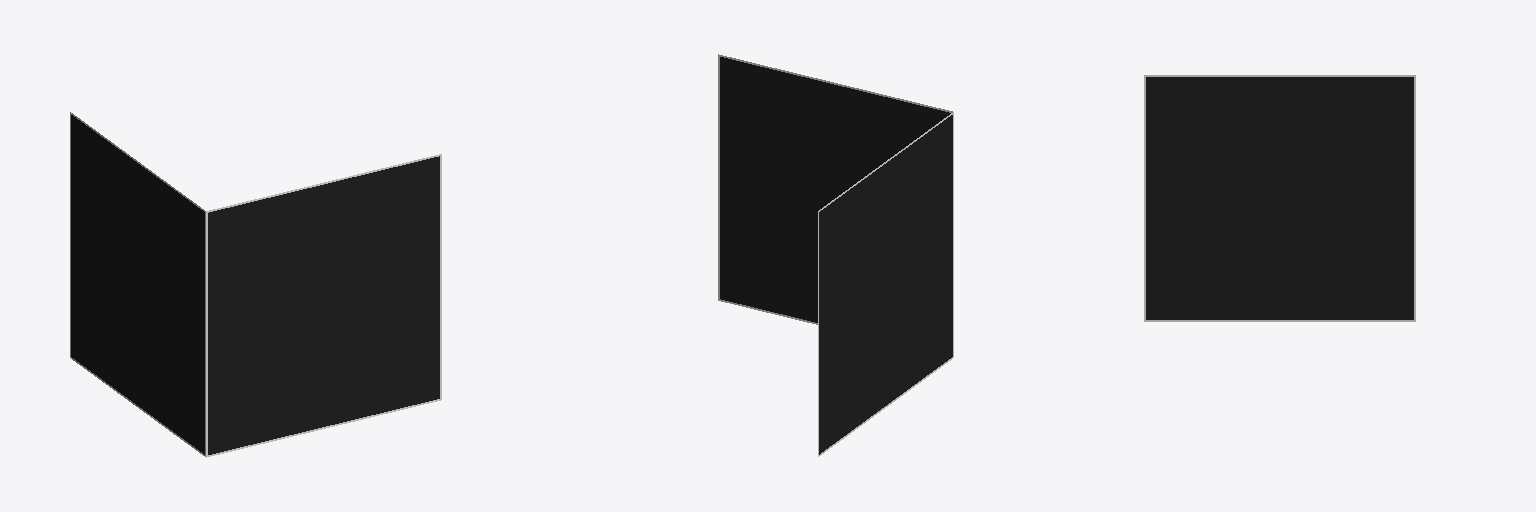
3 renders of one model, left to right at view 1: azimuth 30°, elevation 25°; view 2: azimuth 150°, elevation 25°; view 3: azimuth 270°, elevation 25°, orthographic.
Visible parts, largest first — view 1: Corner; view 2: Corner; view 3: Corner.
Boxes of the visible parts, <box> form: Corner: <box>70,112,441,457</box>; Corner: <box>718,54,953,456</box>; Corner: <box>1144,75,1415,321</box>.
Size of the model in its own units: 2 by 2 by 2.
1 materials, 1 textured.